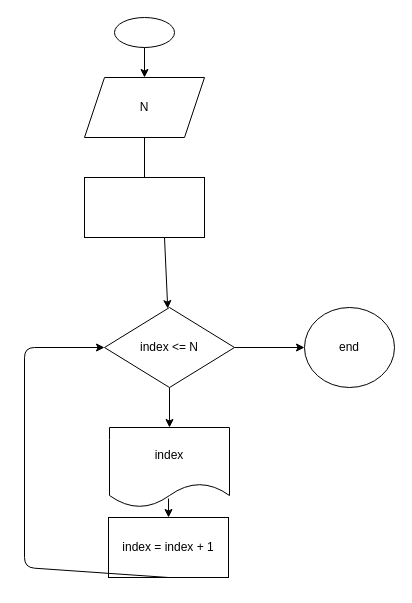
This 412x603 diagram has some shape labels left out. The box of each missing label's shape, as (x1, y1, x2, y2) in pixels:
index = -N: (84, 176, 204, 238)
start: (114, 16, 174, 48)
